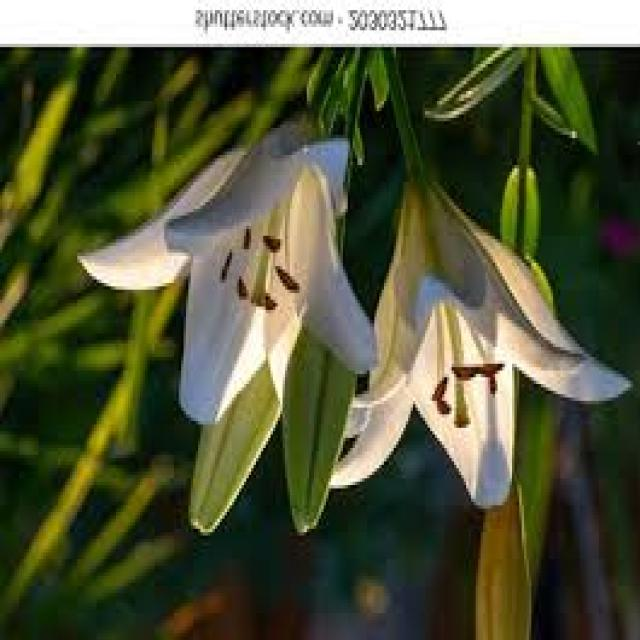lily: (322, 155, 630, 546)
